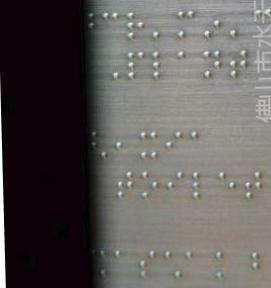Braille: (163, 250, 183, 279), (240, 251, 260, 280), (91, 128, 109, 160), (116, 129, 134, 161), (102, 50, 121, 80), (190, 131, 209, 161), (92, 247, 109, 280), (215, 251, 235, 279), (152, 51, 171, 80), (177, 51, 196, 80), (230, 50, 249, 79), (141, 171, 160, 200), (165, 131, 184, 160), (184, 250, 203, 279), (245, 171, 263, 201), (117, 170, 135, 200), (139, 250, 157, 280), (126, 13, 145, 41), (203, 51, 222, 79), (229, 12, 248, 40), (115, 248, 132, 279), (127, 51, 145, 80), (140, 131, 158, 160), (151, 13, 170, 40), (177, 12, 195, 40), (218, 172, 236, 200), (192, 172, 210, 200), (167, 171, 185, 199), (204, 11, 221, 40), (78, 11, 95, 40), (102, 13, 120, 40)
